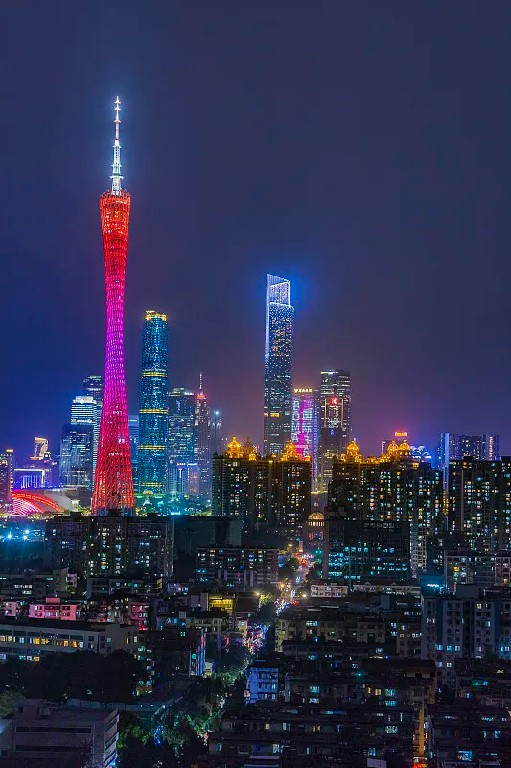Canton: (93, 91, 135, 511)
